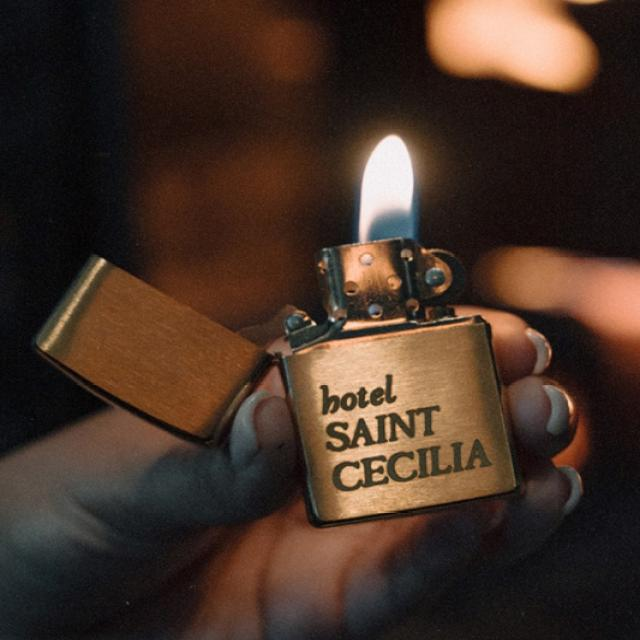fire: (358, 136, 414, 241)
